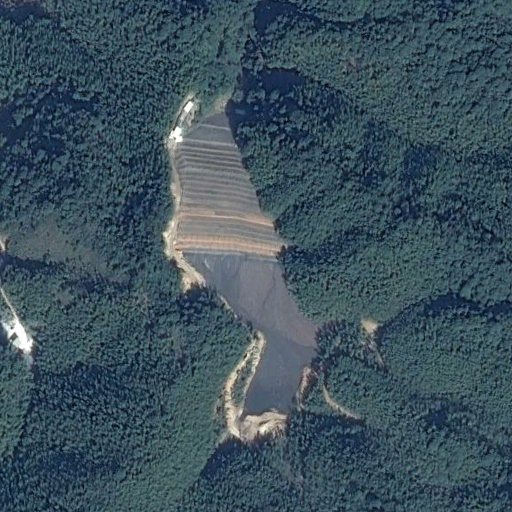tp: (168, 112, 316, 423)
